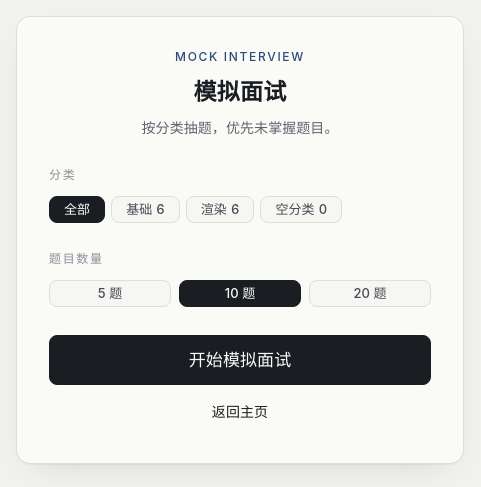
Test: MockInterviewPage category selection › shows question counts and cannot start on an empty category
Expected: the button "渲染 6" is shown, [186,196,254,223]
Step 1. Click the button "空分类 0" → (301, 209), box [260,196,342,223]
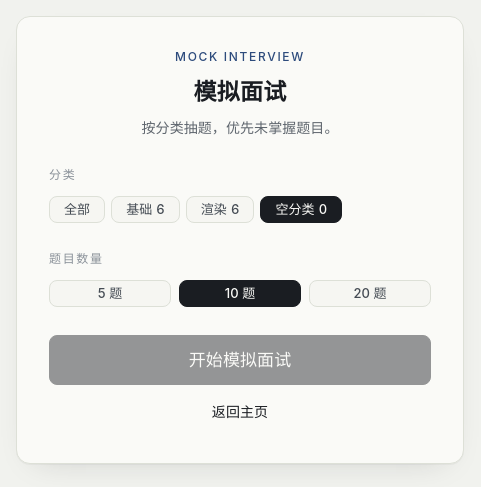
Expected: the button "开始模拟面试" is disabled, [49,334,431,385]
